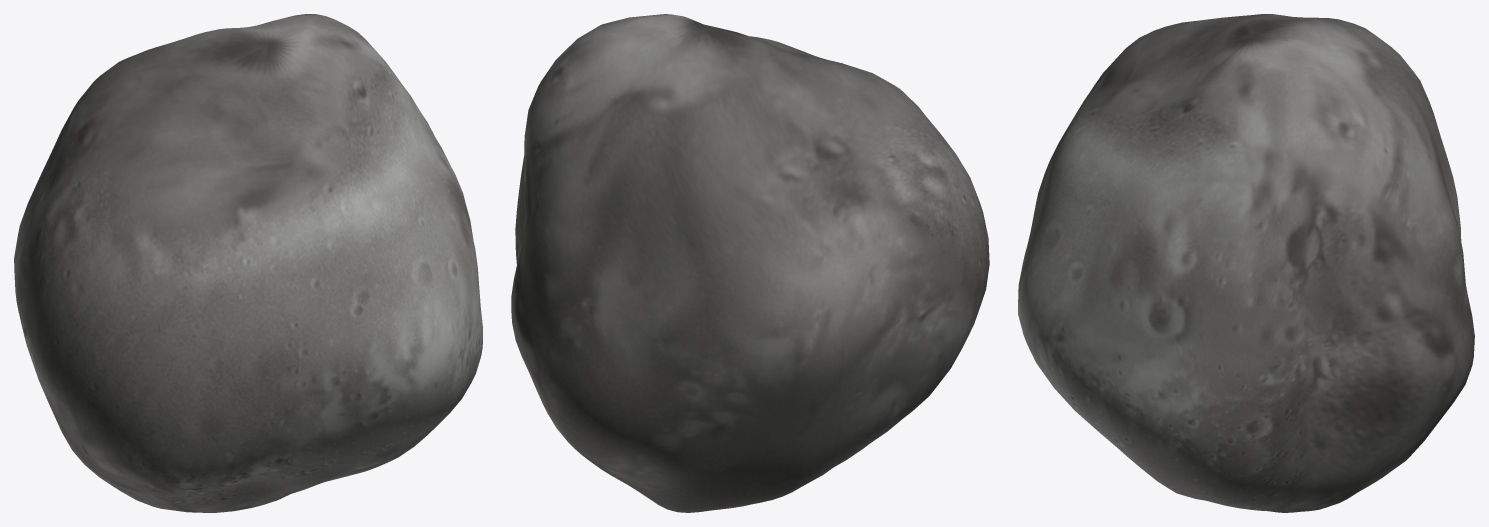
Rendered from deimos.gltf.
The picture shows the model from 3 angles, left to right: view 1: azimuth 30°, elevation 25°; view 2: azimuth 150°, elevation 25°; view 3: azimuth 270°, elevation 25°; orthographic projection. The views are drawn at different scales.
Visible parts, largest first — view 1: Sphere; view 2: Sphere; view 3: Sphere.
Boxes of the visible parts, <box> form: Sphere: <box>14,14,482,512</box>; Sphere: <box>511,14,989,512</box>; Sphere: <box>1018,14,1474,512</box>.
Size of the model in its own units: 1.94 by 2 by 1.77.
1 material, 1 textured.
